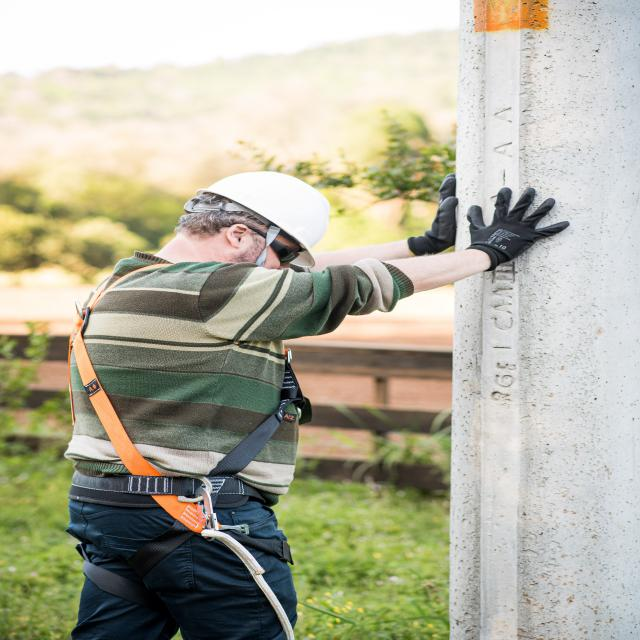capacete: (186, 169, 332, 271)
luva: (462, 184, 573, 276), (404, 170, 464, 258)
